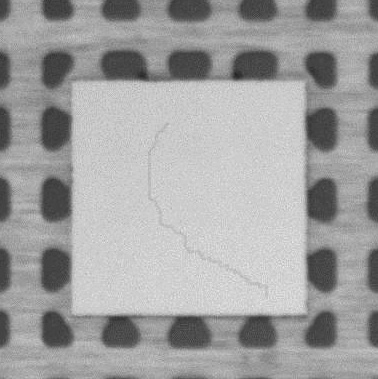DIE_CRACK: (145, 121, 268, 291)
